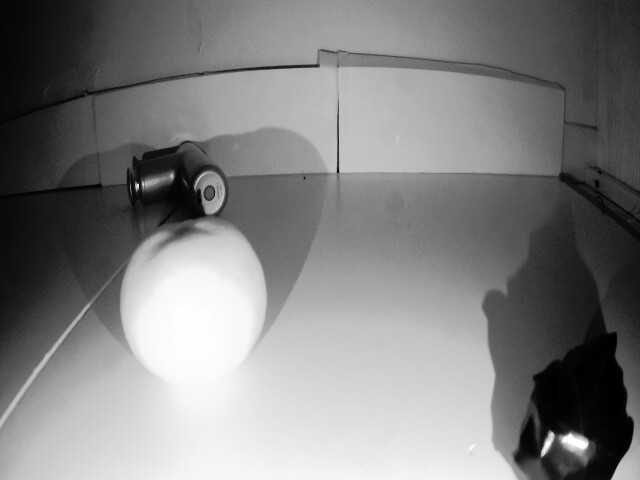silver: (510, 352, 622, 480)
